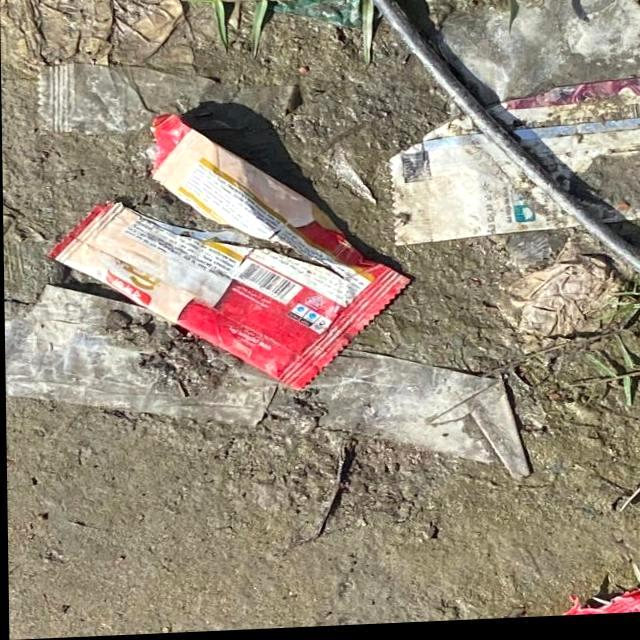packet: (27, 128, 410, 361), (361, 73, 640, 242)
